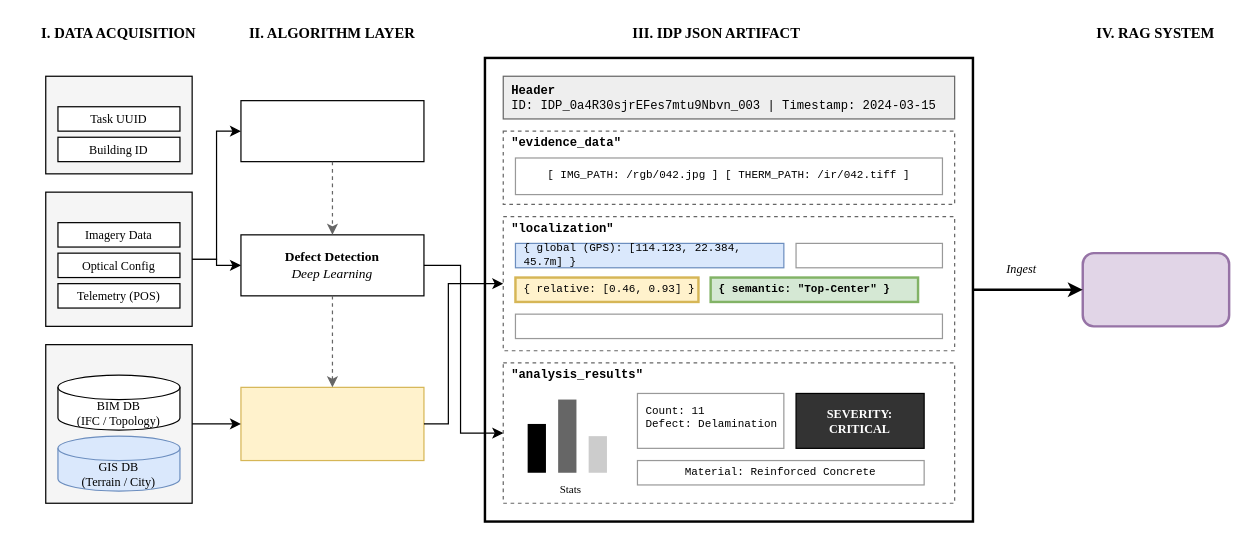
Some shapes in this 1251 by 543 pixel diagram are drawn without their labels. Each missing label, with the box of its shape:
3D Reconstruction SfM / MVS: (240, 99, 424, 162)
BIM_ID: IFC_WALL_0a4R30sjrEFes7mtu9Nbvn: (514, 313, 942, 339)
Context Data: (45, 343, 192, 503)
Knowledge Base Vector Store & LLM: (1081, 251, 1230, 327)
Registration Localization Mapping: (240, 386, 424, 461)
System Config: (45, 75, 192, 174)
UAV Acquisition: (45, 191, 192, 326)
{ local: [x:0.09, y:2.79] m }: (795, 242, 942, 268)
